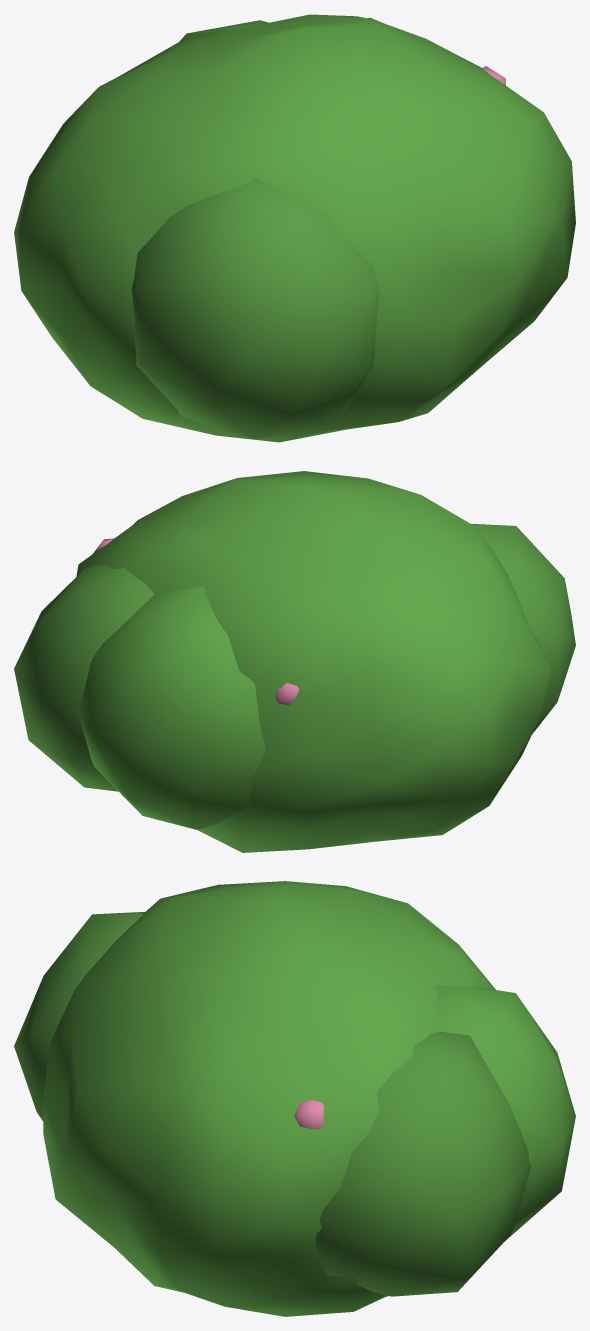
Rendered from bush_c.fbx.
3 renders of one model, top to bottom at view 1: azimuth 30°, elevation 25°; view 2: azimuth 150°, elevation 25°; view 3: azimuth 270°, elevation 25°, orthographic. The views are drawn at different scales.
Parts seen in each view (by area): view 1: bush_c_leaves; view 2: bush_c_leaves; view 3: bush_c_leaves.
Boxes of the visible parts, x1,y1,x2,y2 form: bush_c_leaves: [14, 14, 575, 442]; bush_c_leaves: [14, 471, 575, 852]; bush_c_leaves: [14, 881, 575, 1316].
Size of the model in its own units: 0.7262 by 0.5364 by 0.7105.
